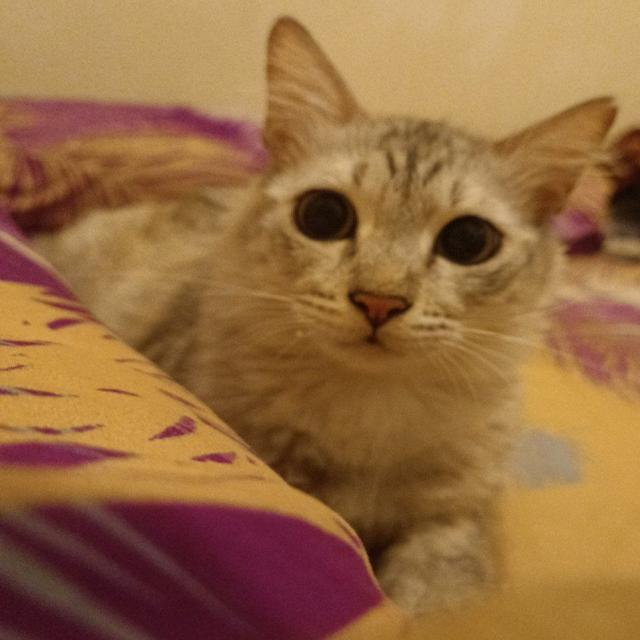da khoe manh: (79, 135, 495, 438)
